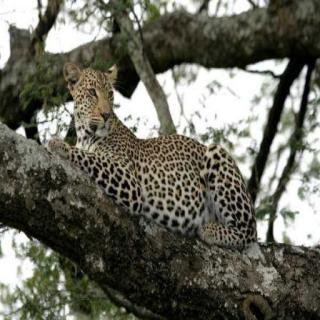Leopard: (48, 45, 288, 268)
